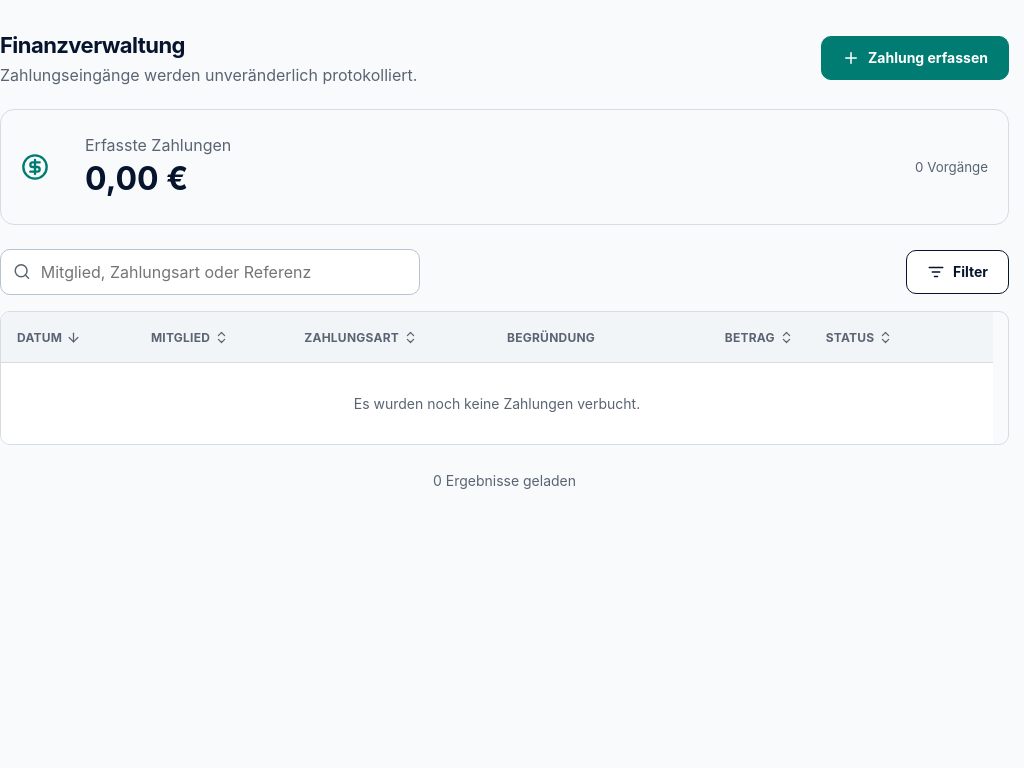
Test: PaymentsPanel › uses finance account summaries without requesting the protected member directory
The width and height of the screenshot is (1024, 768).
Click the button "Zahlung erfassen" at (915, 58), box [821, 36, 1009, 80]
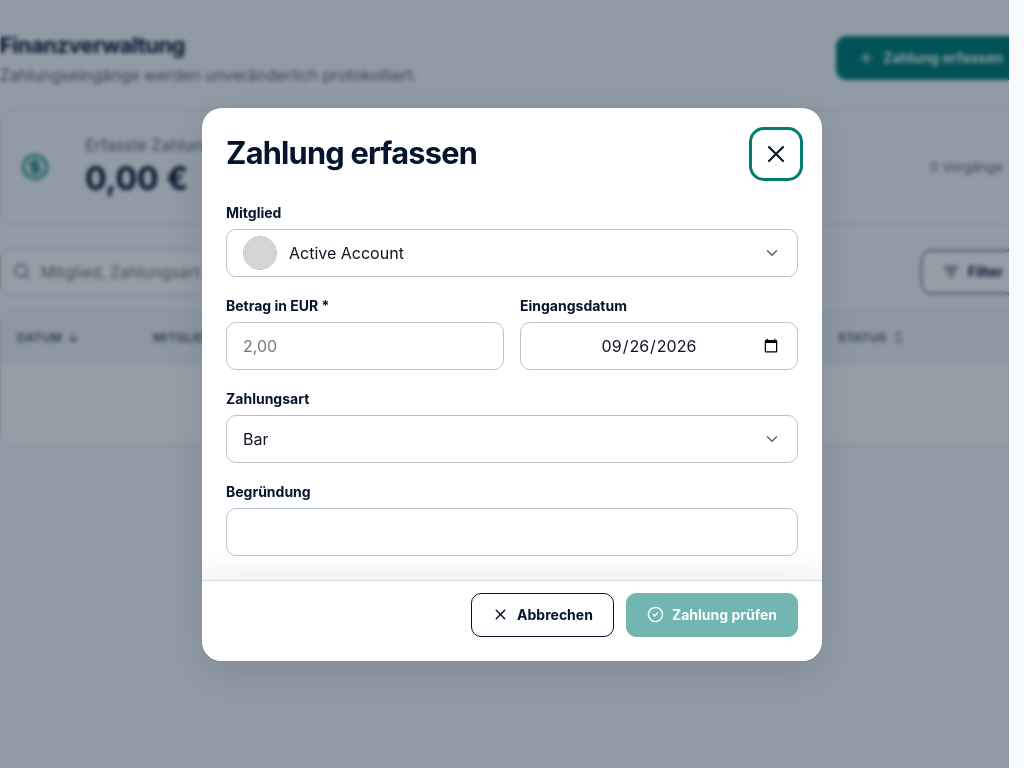
Click the dropdown named "Mitglied" at (260, 252), box [226, 228, 798, 276]
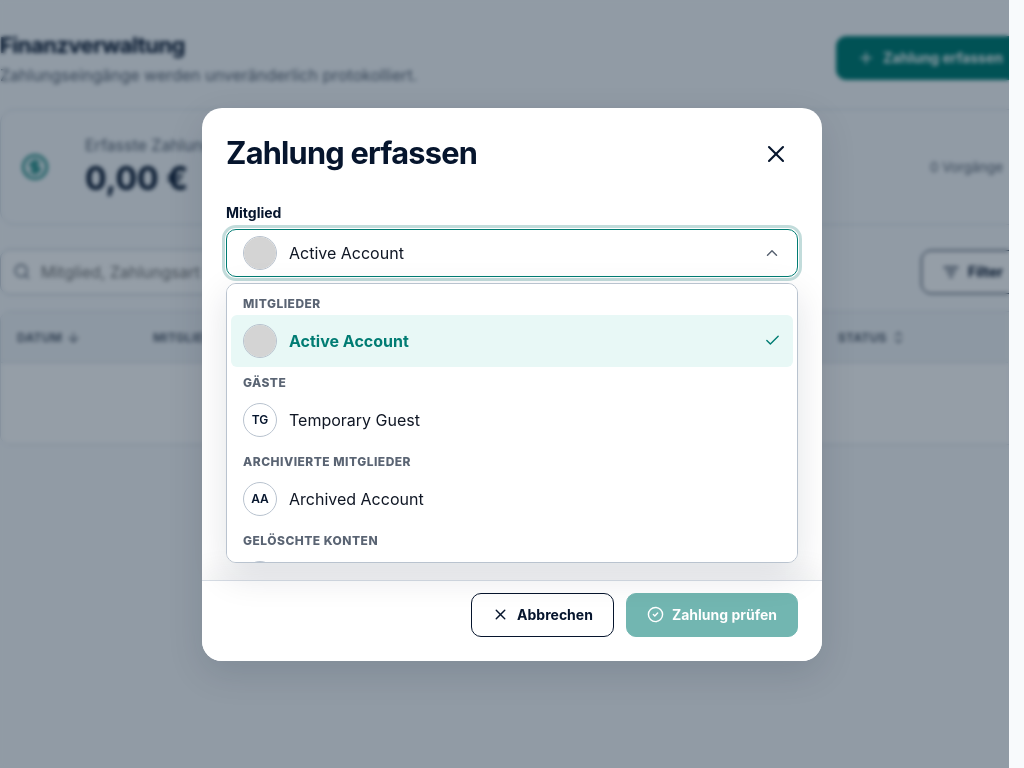
Expected: the list item "Mitglieder" is shown, [243, 296, 321, 310]
Expected: the list item "Gäste" is shown, [243, 374, 286, 390]
Expected: the list item "Archivierte Mitglieder" is shown, [243, 454, 411, 468]
